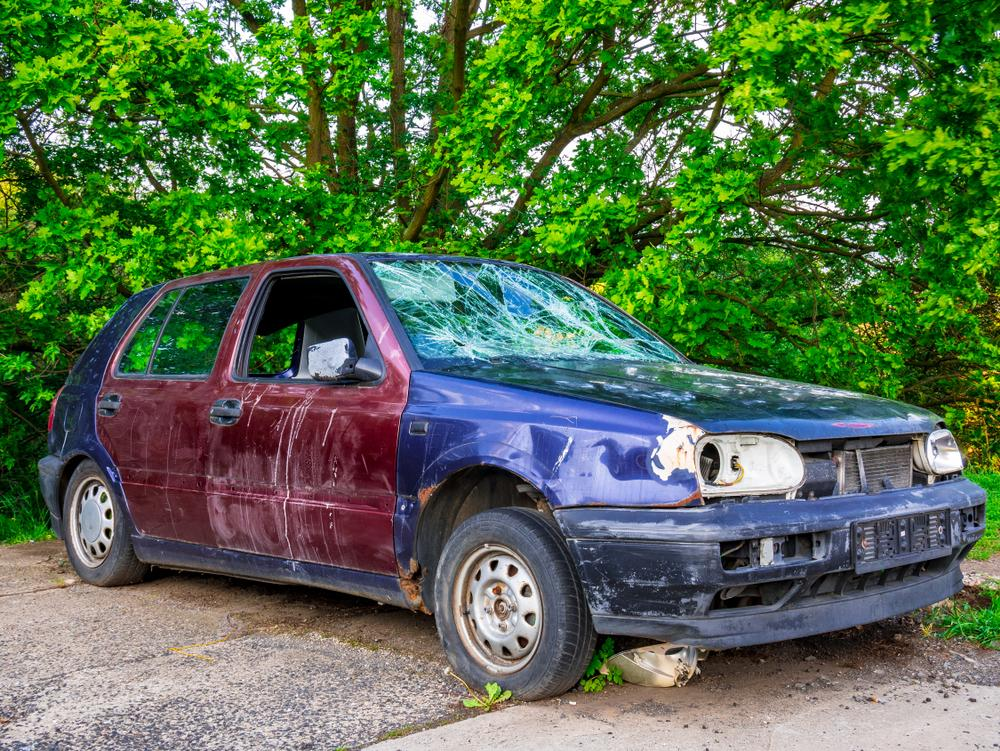dent: (505, 418, 705, 510)
glass shatter: (369, 258, 688, 363)
lamp broken: (699, 432, 805, 497), (923, 430, 964, 477)
